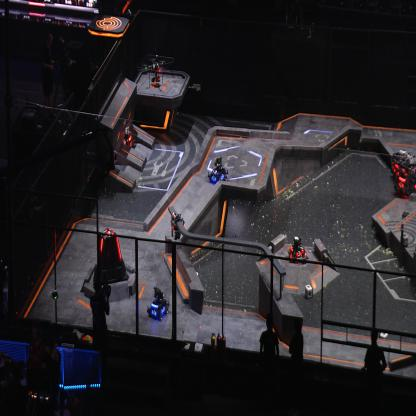car: (395, 153, 415, 198), (146, 285, 170, 322), (391, 147, 414, 180), (207, 156, 228, 186), (287, 235, 308, 264), (117, 125, 135, 151)
